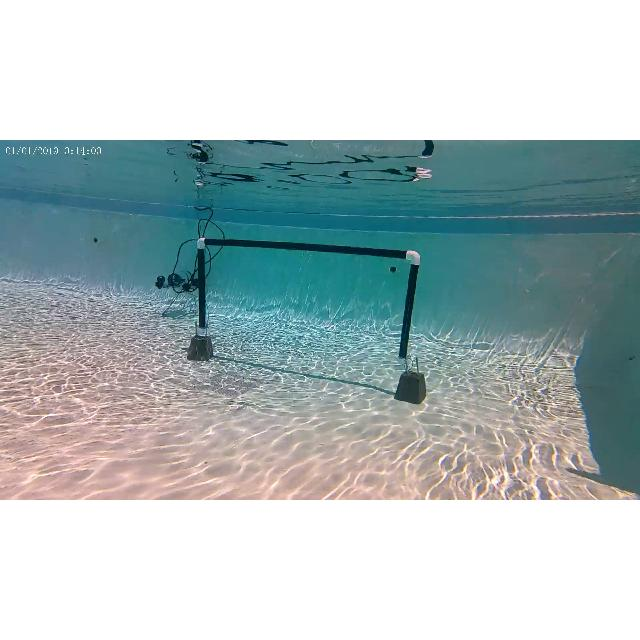prequal gate: (195, 238, 421, 364)
prequal gate leg l: (190, 236, 213, 338)
prequal gate leg r: (396, 242, 426, 370)
